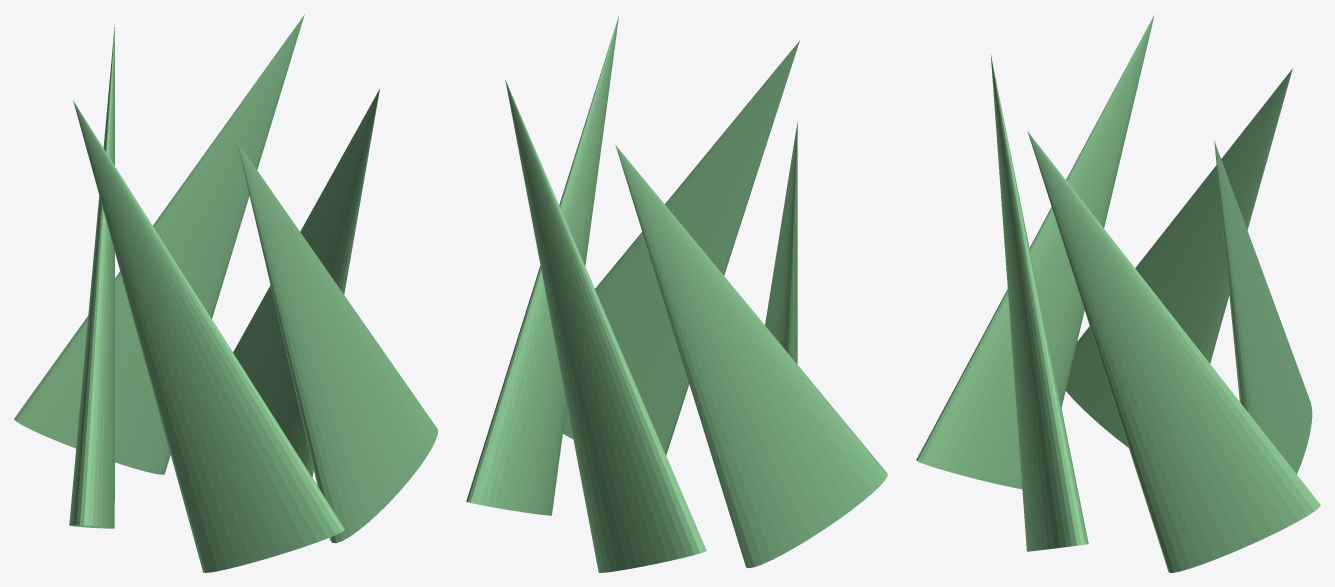
File: fern.glb
The picture shows the model from 3 angles, left to right: view 1: azimuth 30°, elevation 25°; view 2: azimuth 150°, elevation 25°; view 3: azimuth 270°, elevation 25°; orthographic projection.
Visible parts, largest first — view 1: Cone.003, Cone.004, Cone.001, Cone, Cone.002; view 2: Cone.002, Cone.001, Cone.004, Cone, Cone.003; view 3: Cone, Cone.003, Cone.002, Cone.004, Cone.001.
Part boxes in pixels (x1,y1,x2,y2): Cone.003: (73,100,344,572); Cone.004: (237,142,437,543); Cone.001: (14,14,304,474); Cone: (233,89,379,477); Cone.002: (69,24,114,528); Cone.002: (615,145,887,568); Cone.001: (505,80,706,572); Cone.004: (563,40,799,455); Cone: (466,16,618,515); Cone.003: (765,122,797,364); Cone: (1027,131,1320,572); Cone.003: (916,15,1154,489); Cone.002: (1065,68,1292,447); Cone.004: (990,54,1088,551); Cone.001: (1214,141,1312,474).
Size of the model in its own units: 0.713 by 0.828 by 0.6887.
